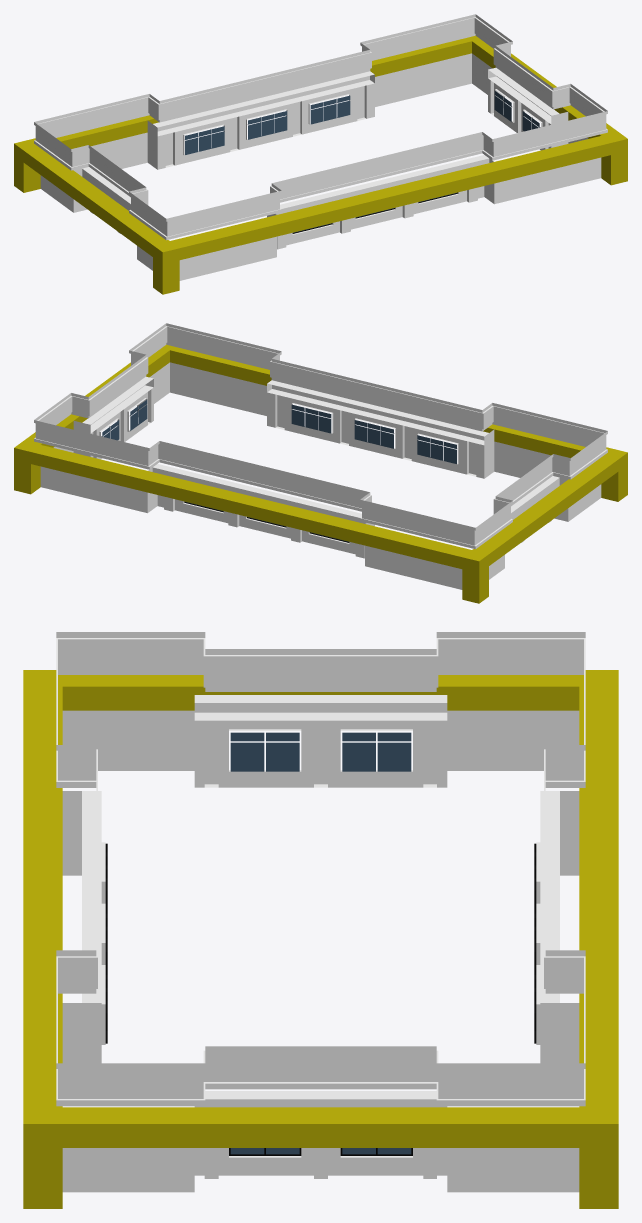
The picture shows the model from 3 angles, top to bottom: view 1: azimuth 30°, elevation 25°; view 2: azimuth 150°, elevation 25°; view 3: azimuth 270°, elevation 25°; orthographic projection. The views are drawn at different scales.
Parts seen in each view (by area): view 1: UM1_Main, UM1_Side1_Yellow, UM1_Roof2, UM1_Side2_Main, UM1_Roof1, UM1_Roof3, UM1_Side2_Yellow, UM1_Side1_Main, UM1_Main_Yellow, UM1_Windows, UM1_Side2_Windows; view 2: UM1_Main, UM1_Side1_Yellow, UM1_Roof2, UM1_Side2_Main, UM1_Roof1, UM1_Roof3, UM1_Side2_Yellow, UM1_Side1_Main, UM1_Main_Yellow, UM1_Windows, UM1_Side2_Windows; view 3: UM1_Side2_Yellow, UM1_Side1_Main, UM1_Roof3, UM1_Side2_Main, UM1_Roof1, UM1_Side1_Yellow, UM1_Main_Yellow, UM1_Main, UM1_Side1_Windows, UM1_Frame, UM1_Side2_Windows, UM1_Roof2.
Boxes of the visible parts, box(x1,y1,x2,y2) form: UM1_Main: box(153, 71, 489, 249); UM1_Side1_Yellow: box(14, 117, 286, 294); UM1_Roof2: box(158, 50, 483, 202); UM1_Side2_Main: box(370, 53, 601, 204); UM1_Roof1: box(34, 94, 281, 240); UM1_Roof3: box(360, 14, 607, 160); UM1_Side2_Yellow: box(370, 35, 627, 185); UM1_Side1_Main: box(40, 120, 276, 280); UM1_Main_Yellow: box(143, 115, 503, 233); UM1_Windows: box(185, 95, 456, 232); UM1_Side2_Windows: box(494, 91, 539, 131); UM1_Main: box(152, 380, 488, 558); UM1_Side1_Yellow: box(355, 426, 627, 603); UM1_Roof2: box(158, 359, 483, 511); UM1_Side2_Main: box(40, 362, 271, 513); UM1_Roof1: box(360, 403, 607, 549); UM1_Roof3: box(34, 323, 281, 469); UM1_Side2_Yellow: box(14, 344, 271, 494); UM1_Side1_Main: box(365, 429, 601, 589); UM1_Main_Yellow: box(137, 424, 498, 542); UM1_Windows: box(185, 404, 456, 541); UM1_Side2_Windows: box(102, 400, 147, 440); UM1_Side2_Yellow: box(23, 1003, 618, 1208); UM1_Side1_Main: box(62, 695, 579, 875); UM1_Roof3: box(56, 950, 585, 1106); UM1_Side2_Main: box(62, 1003, 579, 1192); UM1_Roof1: box(56, 632, 585, 787); UM1_Side1_Yellow: box(23, 670, 618, 790); UM1_Main_Yellow: box(23, 791, 618, 1002); UM1_Main: box(82, 791, 559, 1044); UM1_Side1_Windows: box(230, 732, 411, 771); UM1_Frame: box(105, 843, 536, 1043); UM1_Side2_Windows: box(230, 1148, 411, 1154); UM1_Roof2: box(96, 749, 545, 956).
Bounding box in the file's own units: 5483 × 756 × 3038.
